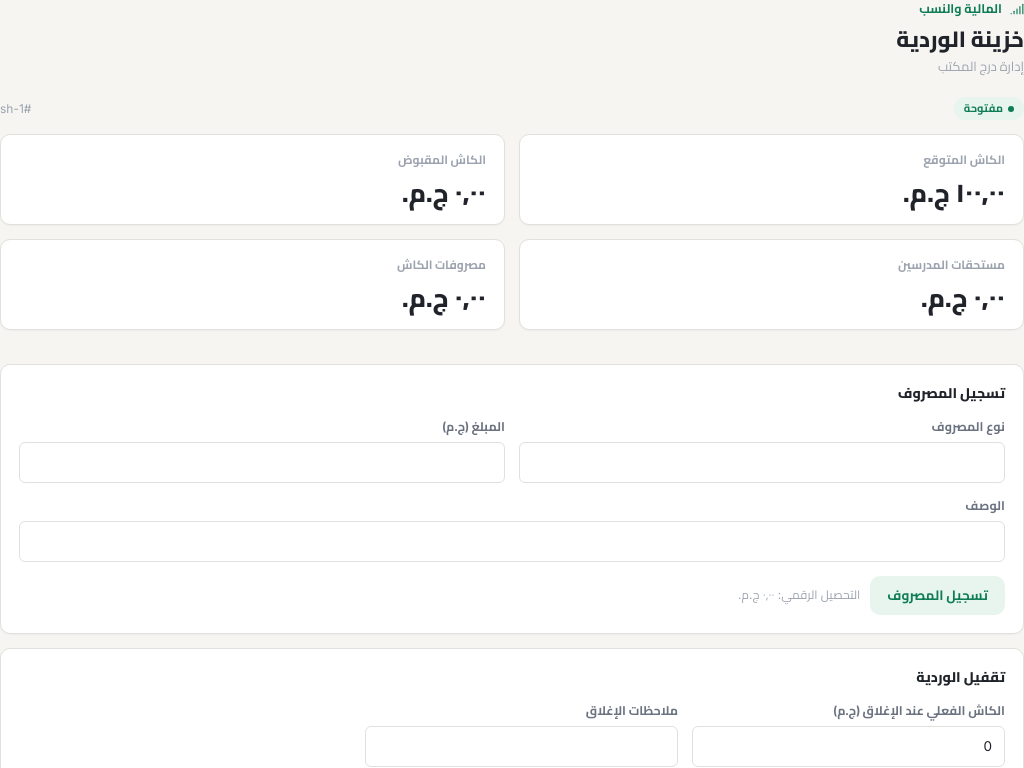
Scenario: ShiftPage (OperationsPage mode="shift") › shows financial metrics and records a cash expense on an open shift
Step 1. Type "أدوات مكتبية" into the field labelled "نوع المصروف" → (762, 463), box [519,442,1005,483]
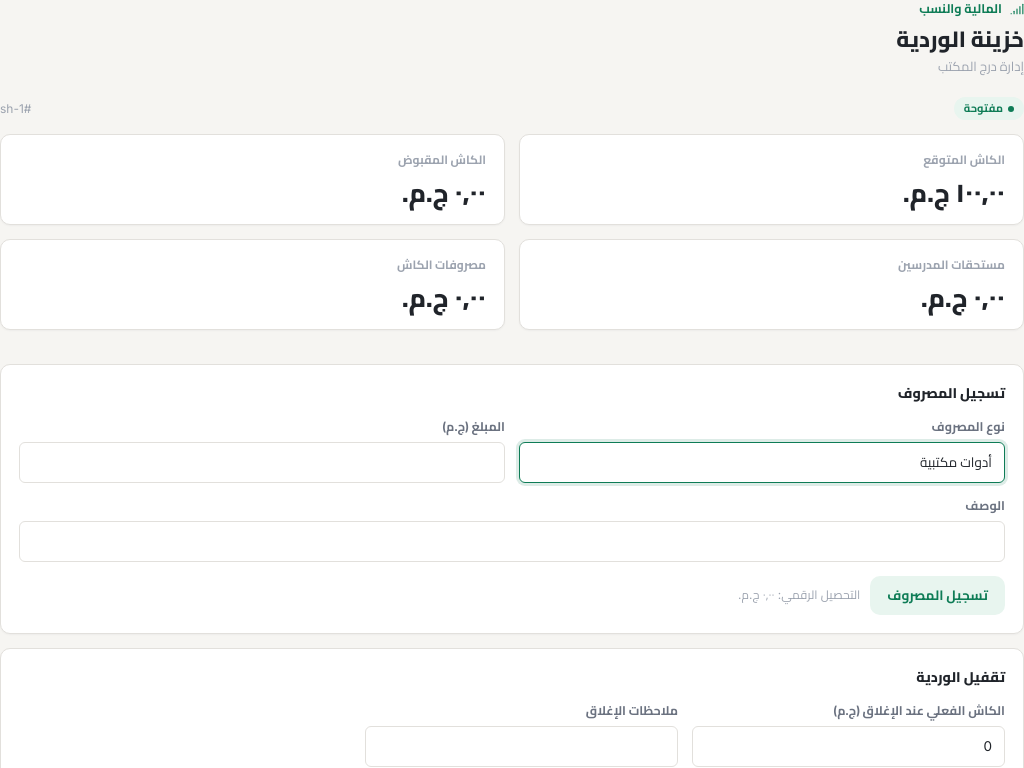
Step 2. Type "30.5" into the number field labelled "المبلغ" → (262, 463), box [19,442,505,483]
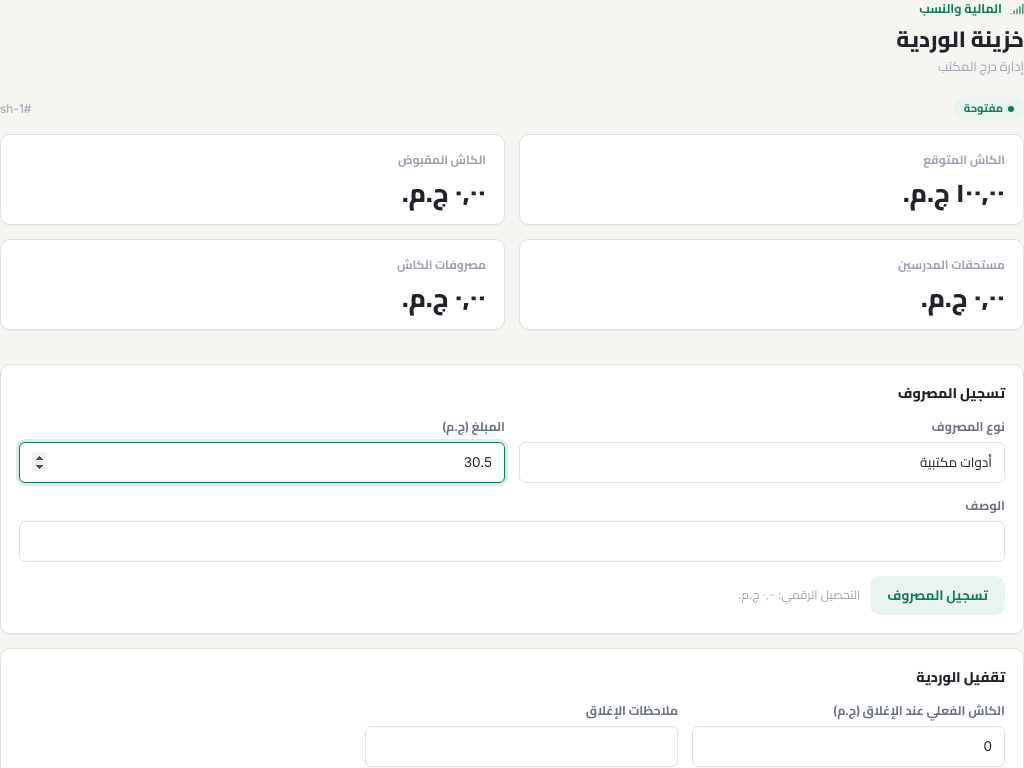
Step 3. Type "أقلام ودفاتر" into the field labelled "الوصف" → (512, 542), box [19,521,1005,562]
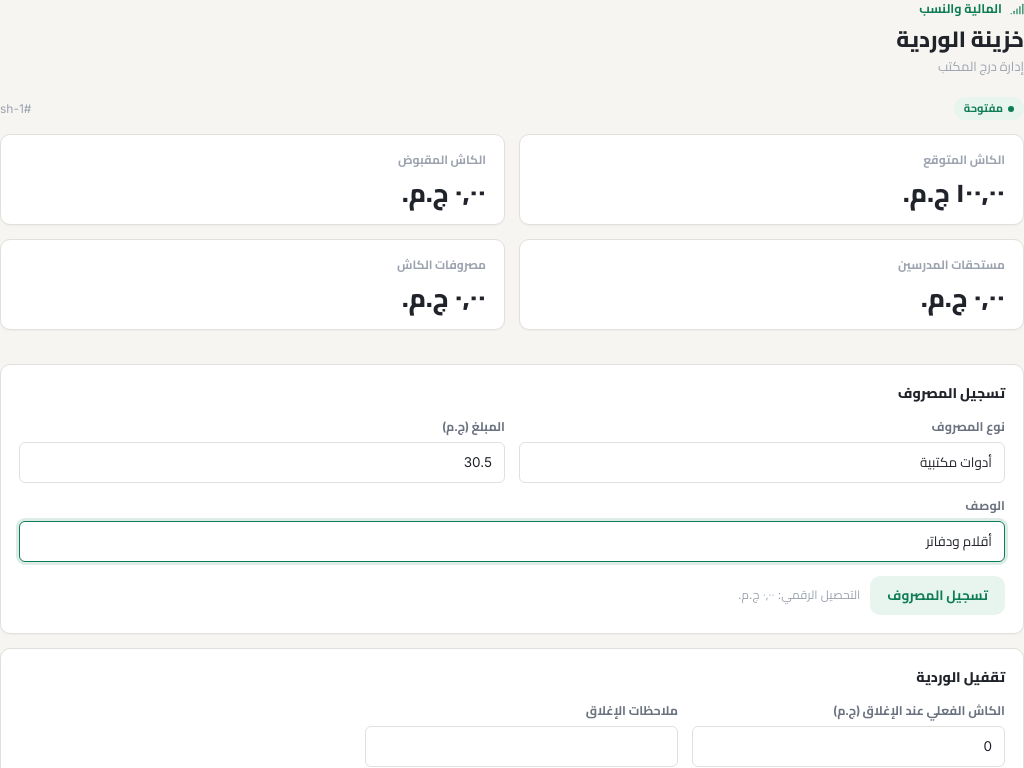
Step 4. Click the button "تسجيل المصروف" → click(938, 595), box [870,576,1005,614]
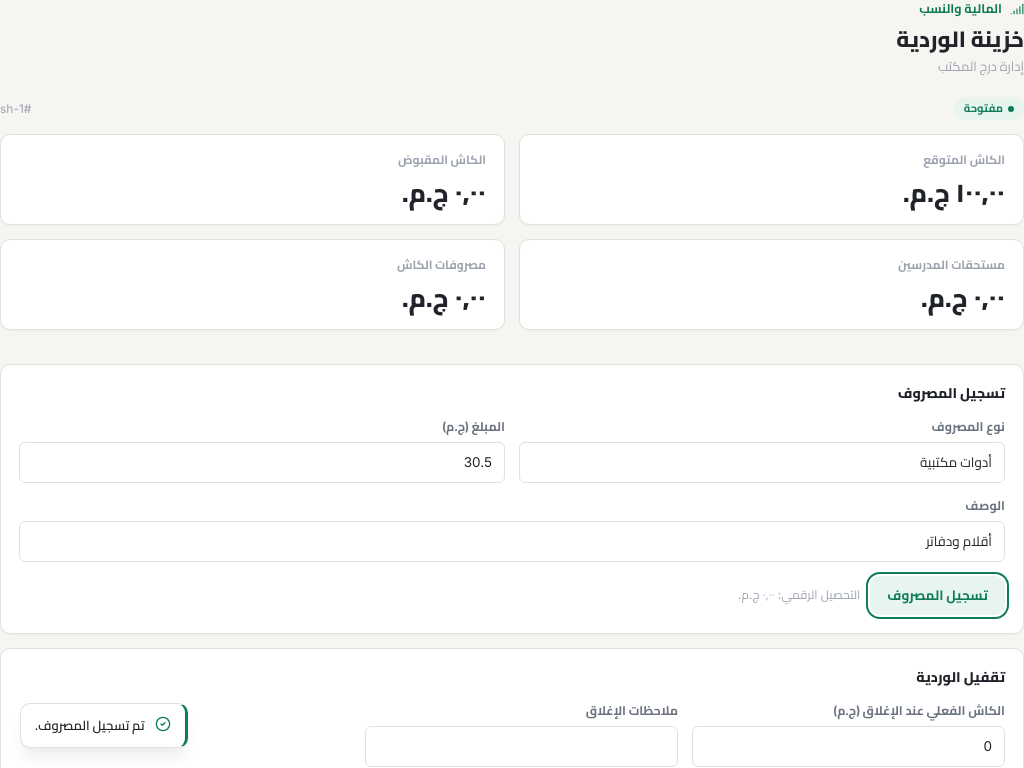
Expected: the text "تم تسجيل المصروف." is shown, [35,716,145,735]
